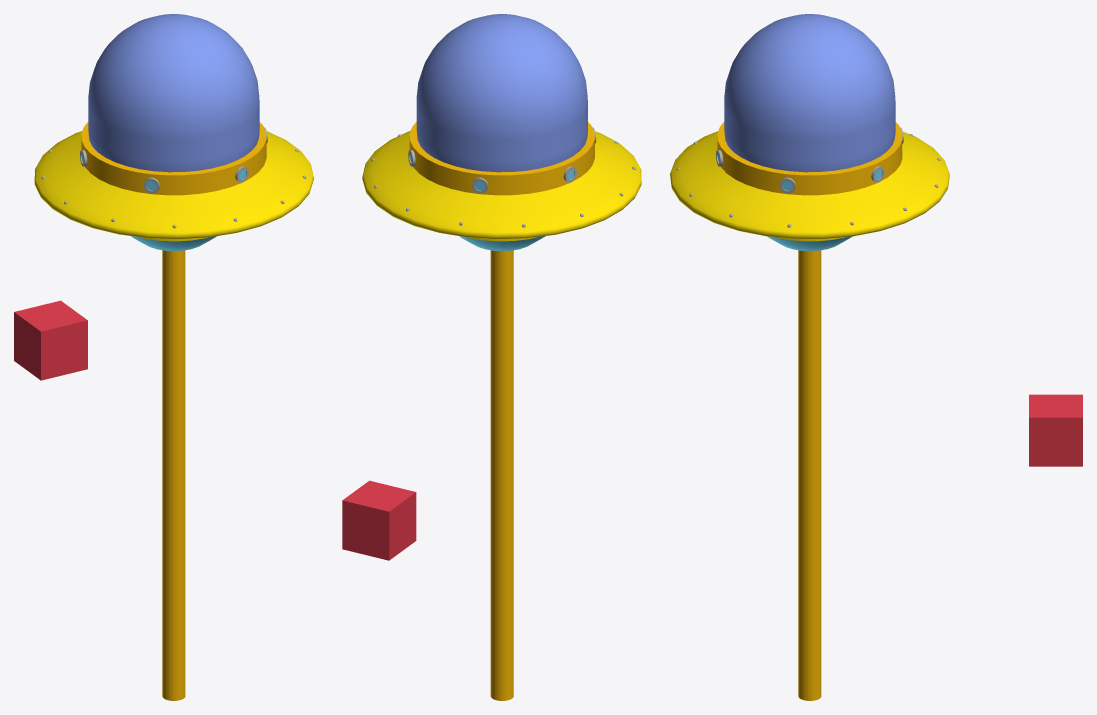
The model's file is ufo_cam.gltf.
The picture shows the model from 3 angles, left to right: view 1: azimuth 30°, elevation 25°; view 2: azimuth 150°, elevation 25°; view 3: azimuth 270°, elevation 25°; orthographic projection.
Parts seen in each view (by area): view 1: Capsule_2, Loft, Cylinder.001, Cube, Tube, Sphere; view 2: Capsule_2, Loft, Cylinder.001, Cube, Tube, Sphere; view 3: Capsule_2, Loft, Cylinder.001, Tube, Cube, Sphere.
Part boxes in pixels (x1,y1,x2,y2): Capsule_2: (88, 14, 259, 172); Loft: (34, 131, 313, 241); Cylinder.001: (162, 250, 185, 700); Cube: (14, 300, 87, 380); Tube: (81, 122, 266, 195); Sphere: (131, 236, 216, 251); Capsule_2: (416, 14, 587, 172); Loft: (362, 130, 641, 241); Cylinder.001: (490, 250, 513, 700); Cube: (342, 480, 416, 560); Tube: (409, 122, 594, 195); Sphere: (460, 236, 545, 251); Capsule_2: (724, 14, 895, 172); Loft: (670, 131, 949, 241); Cylinder.001: (798, 250, 821, 700); Tube: (717, 122, 902, 195); Cube: (1029, 394, 1082, 466); Sphere: (767, 236, 852, 251).
Size of the model in its own units: 1.21 by 3.22 by 1.79.
